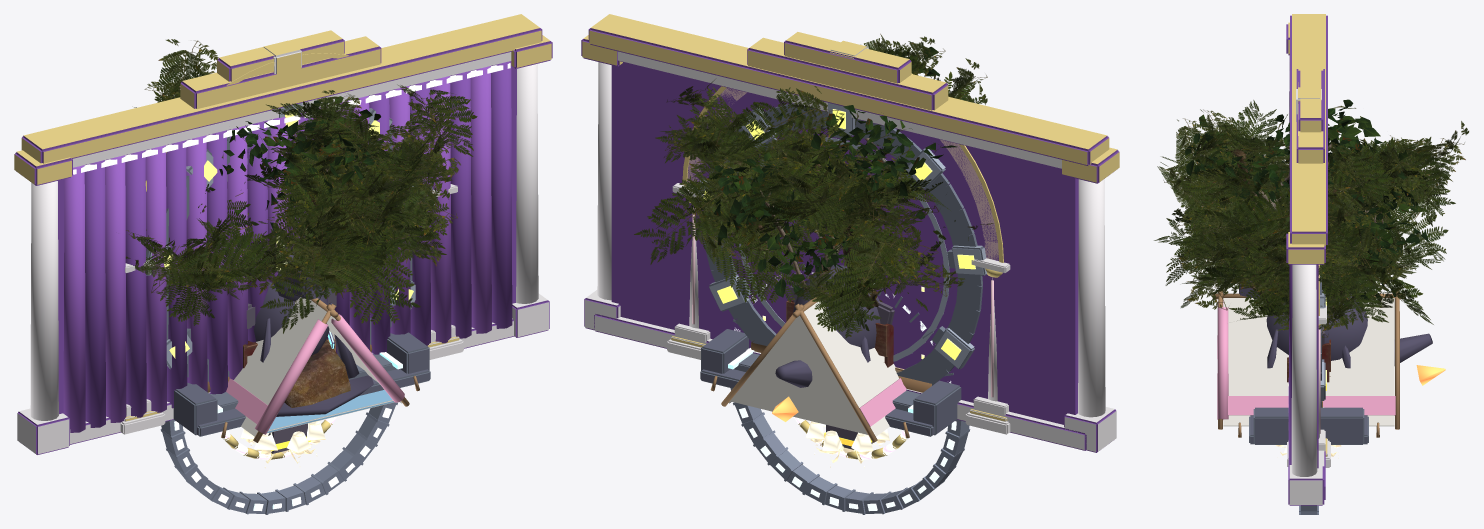
Rendered from ella_world_environment.glb.
3 views of the same model, side by side, from view 1: azimuth 30°, elevation 25°; view 2: azimuth 150°, elevation 25°; view 3: azimuth 270°, elevation 25° (orthographic). The views are drawn at different scales.
Visible parts, largest first — view 1: Env_DTI_Backdrop, Env_Tree_Lilac, Env_Tree_Blossom, Env_Camp_Tent, Env_Stargate_Frame, Env_Stargate_InnerRing, Env_Tree_Emerald, Env_DTI_Arch, Env_Camp_Boulder, Env_Boss_ObsidianDragon_Body, Env_Boss_Altar, Env_DTI_Chandelier (+1 smaller); view 2: Env_DTI_Backdrop, Env_Tree_Lilac, Env_Tree_Blossom, Env_Stargate_Frame, Env_Camp_Tent, Env_Tree_Emerald, Env_DTI_Arch, Env_Stargate_InnerRing, Env_Boss_ObsidianDragon_Body, Env_DTI_Chandelier, Env_DTI_Bench, Env_DTI_StarCrest; view 3: Env_Tree_Blossom, Env_Tree_Lilac, Env_DTI_Backdrop, Env_Camp_Tent, Env_Tree_Emerald, Env_Stargate_Frame, Env_Boss_ObsidianDragon_Body, Env_DTI_Arch, Env_Boss_Altar.
Part boxes in pixels (x1,y1,x2,y2): Env_DTI_Backdrop: (14, 14, 552, 454); Env_Tree_Lilac: (125, 39, 454, 325); Env_Tree_Blossom: (126, 70, 477, 333); Env_Camp_Tent: (221, 297, 419, 442); Env_Stargate_Frame: (146, 103, 434, 436); Env_Stargate_InnerRing: (160, 402, 397, 514); Env_Tree_Emerald: (219, 96, 383, 235); Env_DTI_Arch: (120, 40, 463, 434); Env_Camp_Boulder: (284, 339, 350, 407); Env_Boss_ObsidianDragon_Body: (254, 229, 333, 355); Env_Boss_Altar: (260, 302, 373, 416); Env_DTI_Chandelier: (240, 421, 325, 467); Env_DTI_Backdrop: (581, 14, 1119, 452); Env_Tree_Lilac: (664, 33, 987, 338); Env_Tree_Blossom: (634, 36, 999, 328); Env_Stargate_Frame: (696, 102, 986, 436); Env_Camp_Tent: (710, 297, 909, 442); Env_Tree_Emerald: (708, 46, 957, 297); Env_DTI_Arch: (667, 40, 1010, 434); Env_Stargate_InnerRing: (730, 264, 970, 514); Env_Boss_ObsidianDragon_Body: (772, 265, 880, 421); Env_DTI_Chandelier: (805, 421, 889, 467); Env_DTI_Bench: (786, 300, 893, 367); Env_DTI_StarCrest: (794, 417, 911, 459); Env_Tree_Blossom: (1154, 100, 1465, 331); Env_Tree_Lilac: (1157, 117, 1469, 337); Env_DTI_Backdrop: (1286, 14, 1327, 505); Env_Camp_Tent: (1212, 291, 1403, 437); Env_Tree_Emerald: (1185, 99, 1428, 306); Env_Stargate_Frame: (1249, 276, 1368, 444); Env_Boss_ObsidianDragon_Body: (1239, 280, 1445, 385); Env_DTI_Arch: (1287, 82, 1330, 467); Env_Boss_Altar: (1267, 329, 1350, 368).
Bounding box in the file's own units: 11.62 × 9.85 × 6.99.
82 materials, 16 textured.
